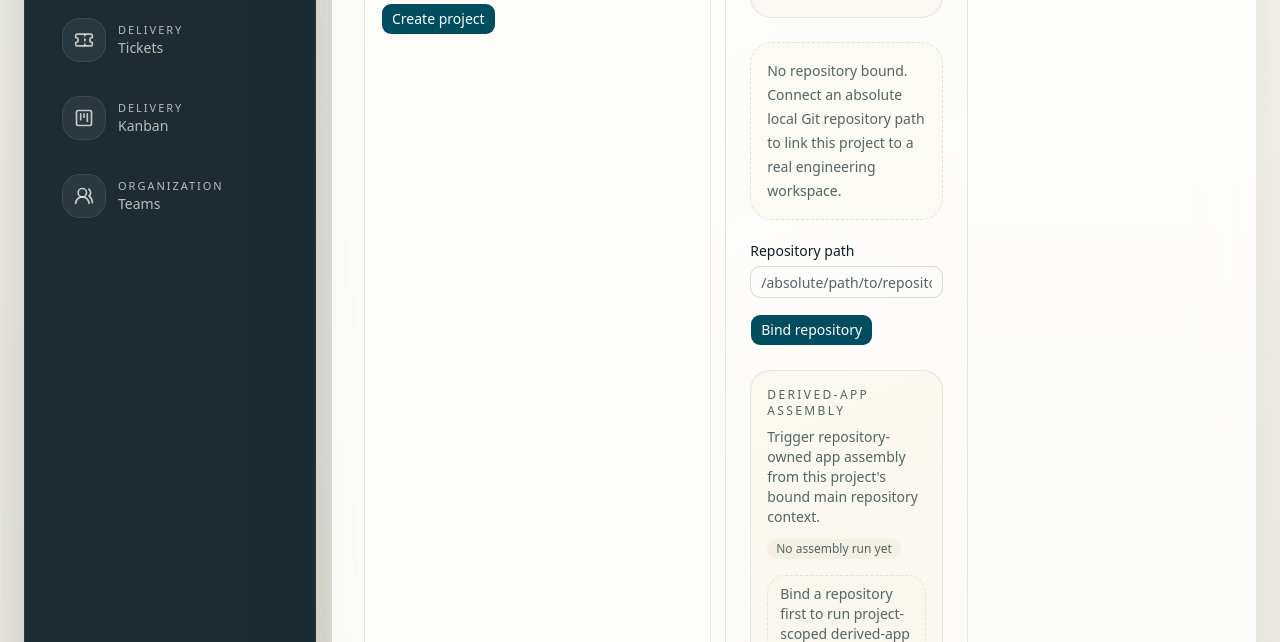
Test case: admin write workflows › shows restricted derived-app verification state until a project has a successful assembly output
(page scrolled)
Type "/workspace/fast-service-platform" into the field labelled "Repository path" at (846, 282), box [750,266,943,298]
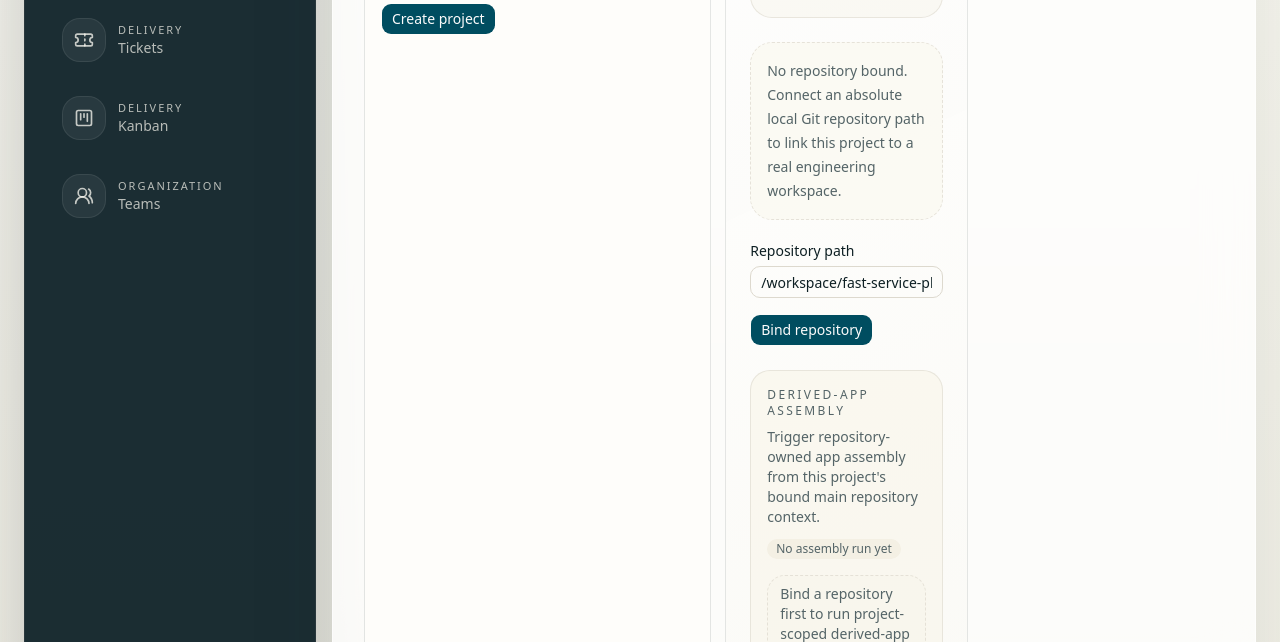
Click the button "Bind repository" at (812, 330), box [750,314,873,346]
(page scrolled)
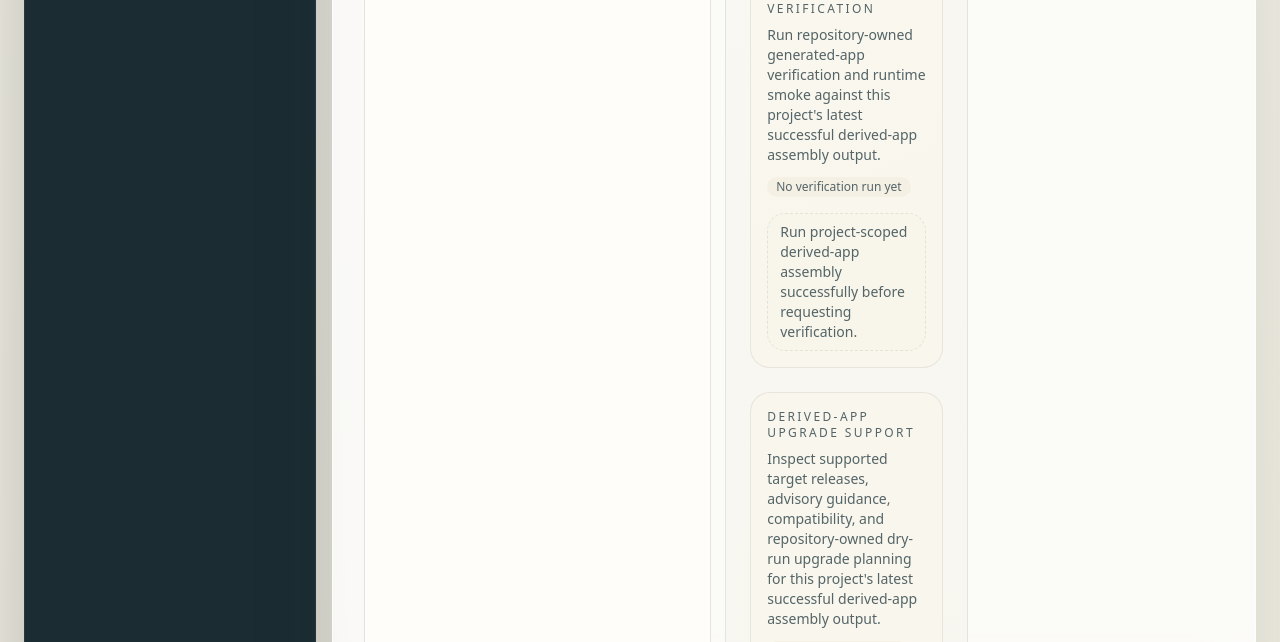
Result: the text "Run project-scoped derived-app assembly successfully before requesting verification." is shown at [780,222,907,341]
